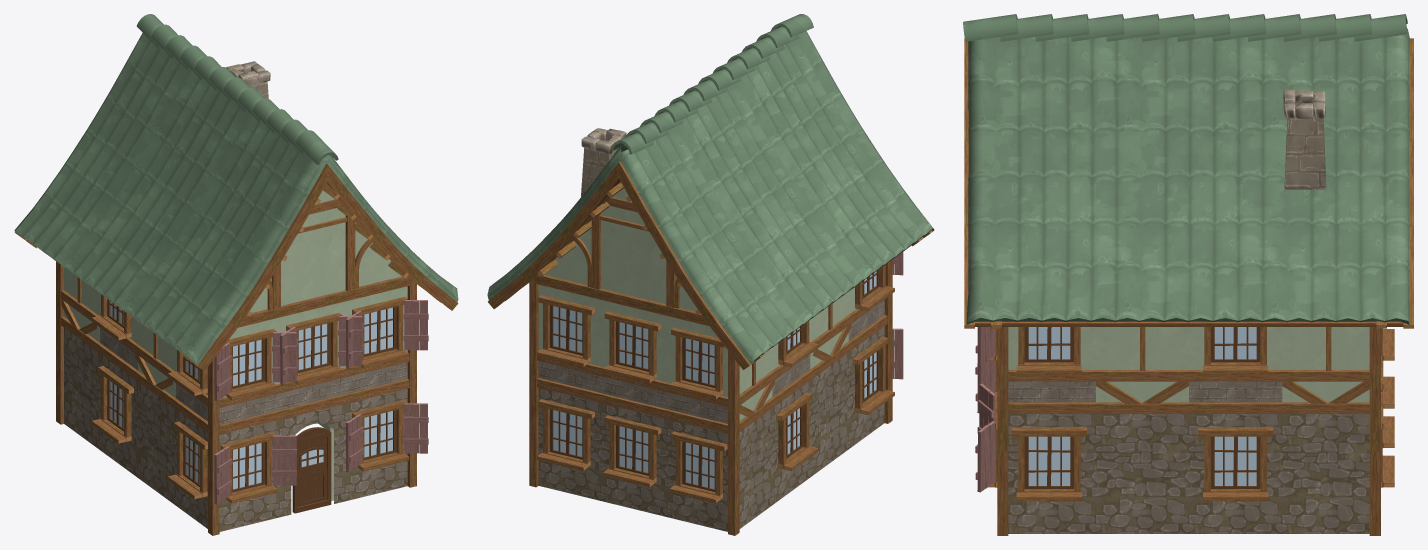
The model's file is house_sage.glb.
3 views of the same model, side by side, from view 1: azimuth 30°, elevation 25°; view 2: azimuth 150°, elevation 25°; view 3: azimuth 270°, elevation 25° (orthographic). The views are drawn at different scales.
Parts seen in each view (by area): view 1: Roof_RoundTiles_6x8, Window_Wide_Flat1, Wall_UnevenBrick_Window_Wide_Flat, Wall_UnevenBrick_Door_Round, WindowShutters_Wide_Flat_Open, Wall_Plaster_Window_Wide_Flat, Prop_Chimney; view 2: Roof_RoundTiles_6x8, Window_Wide_Flat1, Wall_UnevenBrick_Window_Wide_Flat, Wall_UnevenBrick_Door_Round, Wall_Plaster_Window_Wide_Flat, Prop_Chimney, WindowShutters_Wide_Flat_Open; view 3: Roof_RoundTiles_6x8, Wall_UnevenBrick_Window_Wide_Flat, Window_Wide_Flat1, Wall_UnevenBrick_Door_Round, Prop_Chimney, Wall_Plaster_Window_Wide_Flat, WindowShutters_Wide_Flat_Open.
Boxes of the visible parts, x1,y1,x2,y2 form: Roof_RoundTiles_6x8: (14, 14, 458, 365); Window_Wide_Flat1: (56, 185, 416, 535); Wall_UnevenBrick_Window_Wide_Flat: (14, 164, 458, 531); Wall_UnevenBrick_Door_Round: (64, 190, 401, 517); WindowShutters_Wide_Flat_Open: (214, 300, 428, 504); Wall_Plaster_Window_Wide_Flat: (100, 327, 407, 424); Prop_Chimney: (226, 61, 270, 98); Roof_RoundTiles_6x8: (487, 14, 934, 364); Window_Wide_Flat1: (529, 182, 894, 535); Wall_UnevenBrick_Window_Wide_Flat: (488, 161, 934, 531); Wall_UnevenBrick_Door_Round: (545, 188, 848, 528); Wall_Plaster_Window_Wide_Flat: (538, 300, 884, 423); Prop_Chimney: (581, 128, 626, 196); WindowShutters_Wide_Flat_Open: (892, 252, 903, 379); Roof_RoundTiles_6x8: (963, 14, 1409, 324); Wall_UnevenBrick_Window_Wide_Flat: (964, 38, 1413, 533); Window_Wide_Flat1: (988, 327, 1394, 535); Wall_UnevenBrick_Door_Round: (1096, 414, 1369, 533); Prop_Chimney: (1283, 89, 1326, 192); Wall_Plaster_Window_Wide_Flat: (1008, 381, 1282, 402); WindowShutters_Wide_Flat_Open: (975, 327, 995, 492).
Bounding box in the file's own units: 8.25 × 10.89 × 9.68.
Materials: 8 (7 with a texture image).
